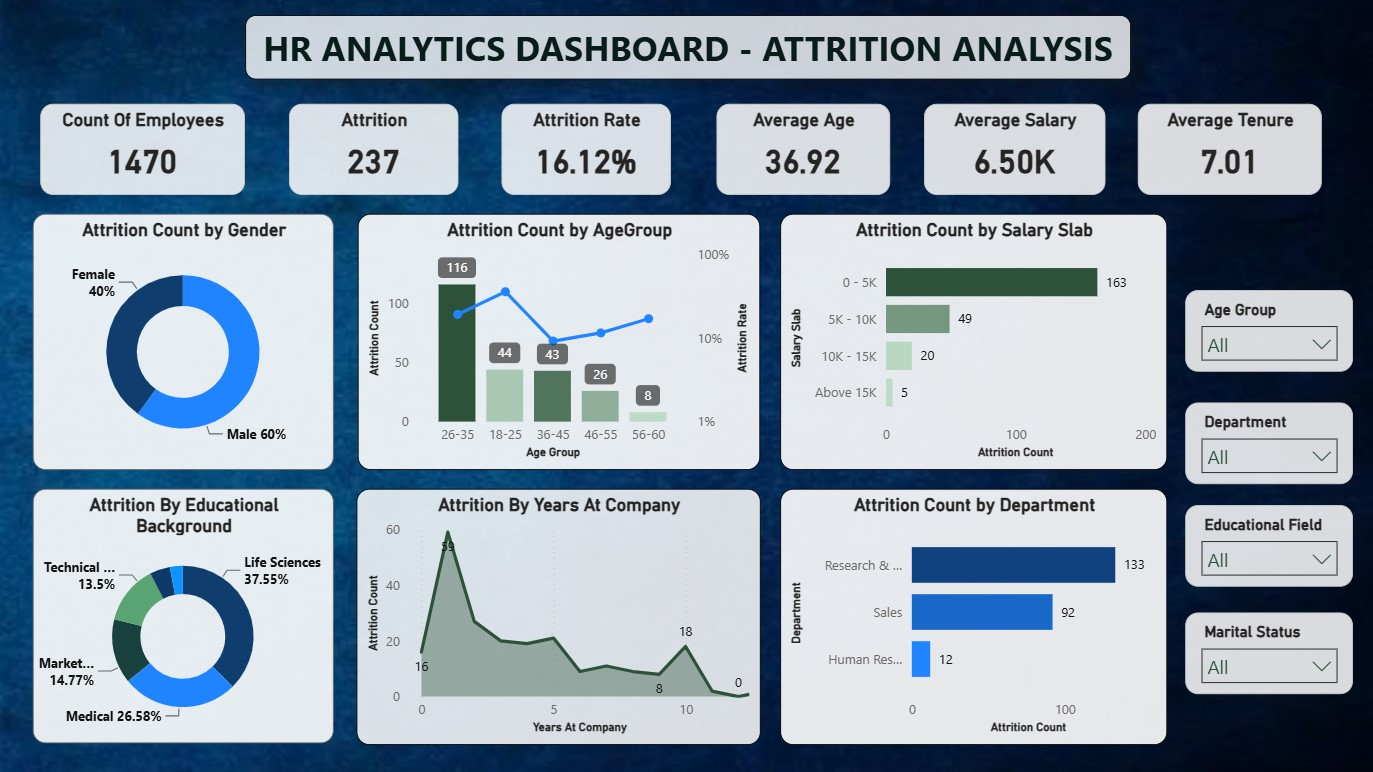

What the dashboard file says about the page in this screenshot:
{"tool":"powerbi","page":{"name":"Page 1","canvas":[1280,720],"ordinal":0},"visuals":[{"type":"textbox","box":[228.6,14.3,824.3,60],"z":0},{"type":"card","title":"Count Of Employees","fields":{"Values":["CountNonNull(WA_Fn-UseC_-HR-Employee-Attrition.EmployeeCount)"]},"box":[38.8,96.2,190,85],"z":1000},{"type":"card","title":"Attrition","fields":{"Values":["Sum(WA_Fn-UseC_-HR-Employee-Attrition.AttritionCount)"]},"box":[270,96.2,157.5,85],"z":2000},{"type":"card","title":"Attrition Rate","fields":{"Values":["WA_Fn-UseC_-HR-Employee-Attrition.AttritionRate"]},"box":[467.5,96.2,157.5,85],"z":3000},{"type":"card","title":"Average Age","fields":{"Values":["Avg(WA_Fn-UseC_-HR-Employee-Attrition.Age)"]},"box":[667.5,96.2,161.2,85],"z":4000},{"type":"card","title":"Average Salary","fields":{"Values":["Avg(WA_Fn-UseC_-HR-Employee-Attrition.MonthlyIncome)"]},"box":[860,96.2,168.8,85],"z":5000},{"type":"card","title":"Average Tenure","fields":{"Values":["Avg(WA_Fn-UseC_-HR-Employee-Attrition.YearsAtCompany)"]},"box":[1058.8,96.2,171.2,85],"z":6000},{"type":"donutChart","title":"Attrition Count by Gender","fields":{"Category":["WA_Fn-UseC_-HR-Employee-Attrition.Gender"],"Y":["CountNonNull(WA_Fn-UseC_-HR-Employee-Attrition.Attrition)"]},"box":[31.4,198.6,280,238.6],"z":7000},{"type":"donutChart","title":"Attrition By Educational Background","fields":{"Category":["WA_Fn-UseC_-HR-Employee-Attrition.EducationField","WA_Fn-UseC_-HR-Employee-Attrition.YearsAtCompany"],"Y":["Sum(WA_Fn-UseC_-HR-Employee-Attrition.AttritionCount)"]},"box":[31.4,454.3,280,237.1],"z":8000},{"type":"lineStackedColumnComboChart","title":"Attrition Count by AgeGroup","fields":{"Category":["WA_Fn-UseC_-HR-Employee-Attrition.AgeGroup"],"Y":["Sum(WA_Fn-UseC_-HR-Employee-Attrition.AttritionCount)"],"Y2":["WA_Fn-UseC_-HR-Employee-Attrition.AttritionRate"]},"box":[334.3,198.6,374.3,238.6],"z":9000},{"type":"barChart","title":"Attrition Count by Salary Slab","fields":{"Y":["Sum(WA_Fn-UseC_-HR-Employee-Attrition.AttritionCount)"],"Category":["WA_Fn-UseC_-HR-Employee-Attrition.Salary Slab"]},"box":[727.1,198.6,360,238.6],"z":10000},{"type":"areaChart","title":"Attrition By Years At Company","fields":{"Category":["WA_Fn-UseC_-HR-Employee-Attrition.YearsAtCompany"],"Y":["Sum(WA_Fn-UseC_-HR-Employee-Attrition.AttritionCount)"]},"box":[332.9,454.3,375.7,238.6],"z":11000},{"type":"barChart","title":"Attrition Count by Department","fields":{"Y":["Sum(WA_Fn-UseC_-HR-Employee-Attrition.AttritionCount)"],"Category":["WA_Fn-UseC_-HR-Employee-Attrition.Department"]},"box":[727.1,454.3,360,238.6],"z":12000},{"type":"slicer","title":"Age Group","fields":{"Values":["WA_Fn-UseC_-HR-Employee-Attrition.AgeGroup"]},"box":[1104,270,156,76],"z":13000},{"type":"slicer","title":"Age Group","fields":{"Values":["WA_Fn-UseC_-HR-Employee-Attrition.Department"]},"box":[1104,374,156,76],"z":14000},{"type":"slicer","title":"Age Group","fields":{"Values":["WA_Fn-UseC_-HR-Employee-Attrition.EducationField"]},"box":[1104,470,156,76],"z":15000},{"type":"slicer","title":"Age Group","fields":{"Values":["WA_Fn-UseC_-HR-Employee-Attrition.MaritalStatus"]},"box":[1104,570,156,76],"z":16000}]}

Visuals, with their boxes in screenshot pixels (x1, y1, x2, y2), scaled from the page's 1280x720 canvas onto the 1373x772 screenshot:
textbox: pyautogui.locateOnScreen(245, 15, 1129, 80)
"Count Of Employees" card: pyautogui.locateOnScreen(42, 103, 245, 194)
"Attrition" card: pyautogui.locateOnScreen(290, 103, 459, 194)
"Attrition Rate" card: pyautogui.locateOnScreen(501, 103, 670, 194)
"Average Age" card: pyautogui.locateOnScreen(716, 103, 889, 194)
"Average Salary" card: pyautogui.locateOnScreen(922, 103, 1104, 194)
"Average Tenure" card: pyautogui.locateOnScreen(1136, 103, 1319, 194)
"Attrition Count by Gender" donutChart: pyautogui.locateOnScreen(34, 213, 334, 469)
"Attrition By Educational Background" donutChart: pyautogui.locateOnScreen(34, 487, 334, 741)
"Attrition Count by AgeGroup" lineStackedColumnComboChart: pyautogui.locateOnScreen(359, 213, 760, 469)
"Attrition Count by Salary Slab" barChart: pyautogui.locateOnScreen(780, 213, 1166, 469)
"Attrition By Years At Company" areaChart: pyautogui.locateOnScreen(357, 487, 760, 743)
"Attrition Count by Department" barChart: pyautogui.locateOnScreen(780, 487, 1166, 743)
"Age Group" slicer: pyautogui.locateOnScreen(1184, 290, 1352, 371)
"Age Group" slicer: pyautogui.locateOnScreen(1184, 401, 1352, 482)
"Age Group" slicer: pyautogui.locateOnScreen(1184, 504, 1352, 585)
"Age Group" slicer: pyautogui.locateOnScreen(1184, 611, 1352, 693)
